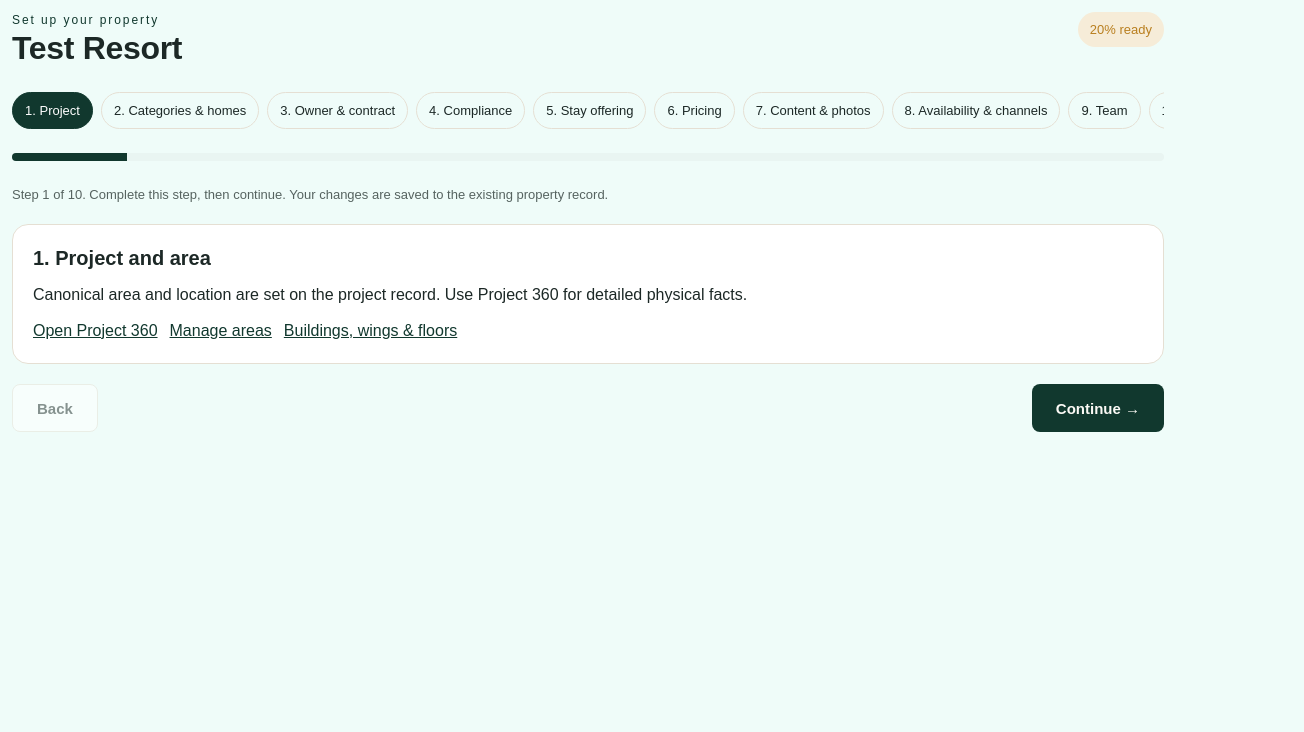
Test: property onboarding form wiring › keeps categories and physical homes together in the canonical onboarding step
What coordinates should you click on to do the following:
click the button "2. Categories & homes"
I would click on:
 (180, 110)
Its box is [101,92,259,129].
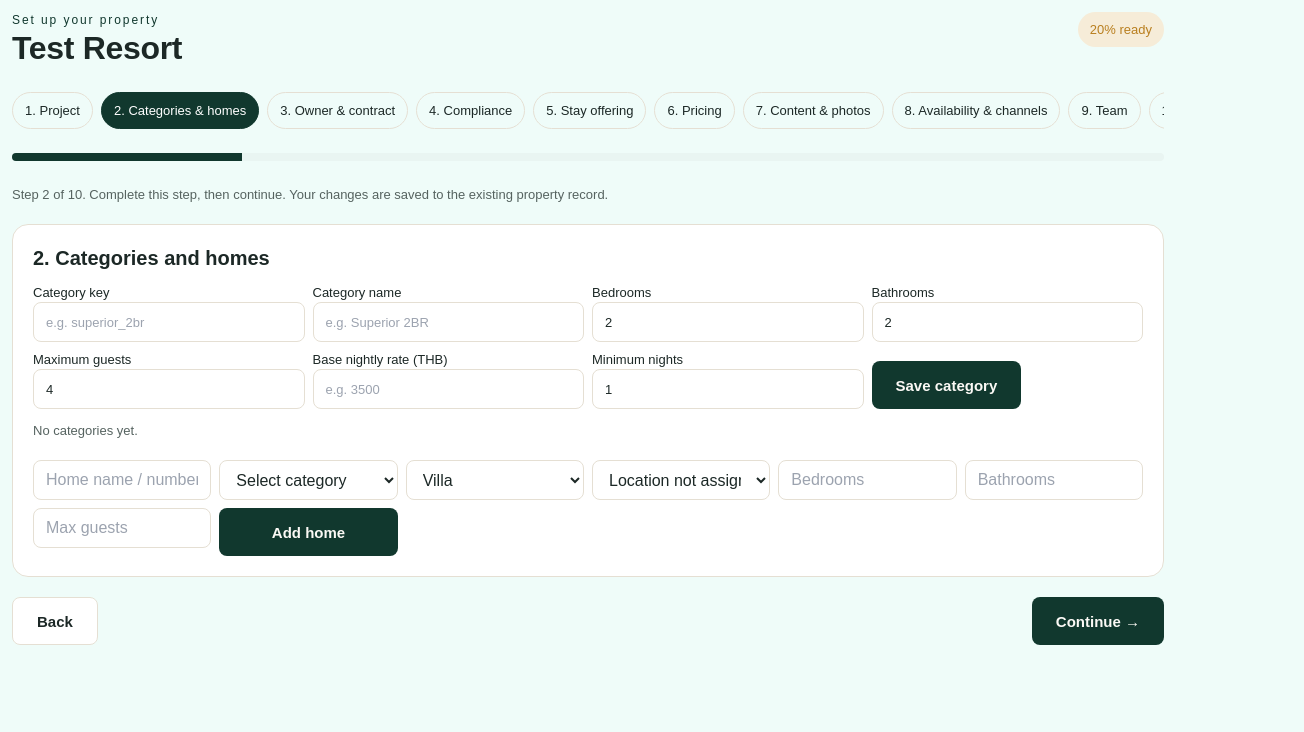
Expected: the heading "2. Categories and homes" is shown, [33,247,270,269]
What coordinates should you click on to do the following:
click the button "7. Content & photos"
I would click on:
 (813, 110)
Its box is [743,92,884,129].
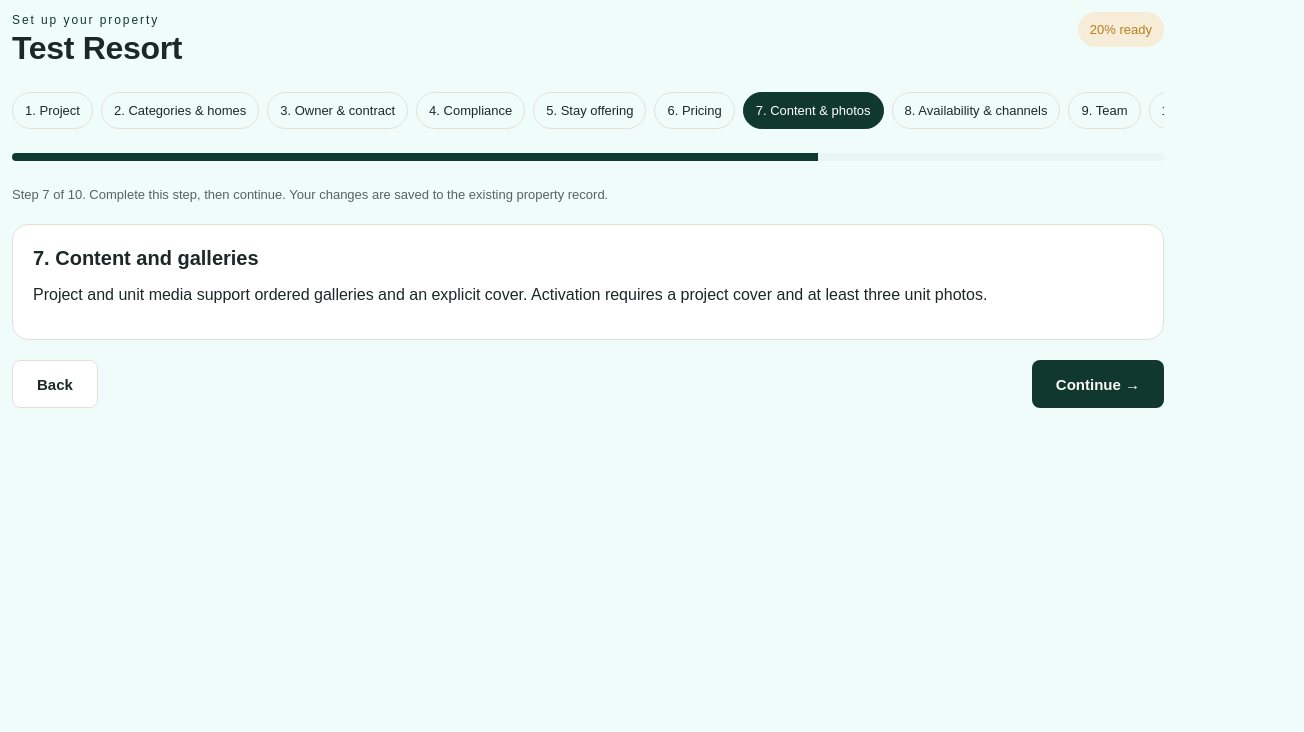
Expected: the heading "7. Content and galleries" is shown, [33,247,259,269]
